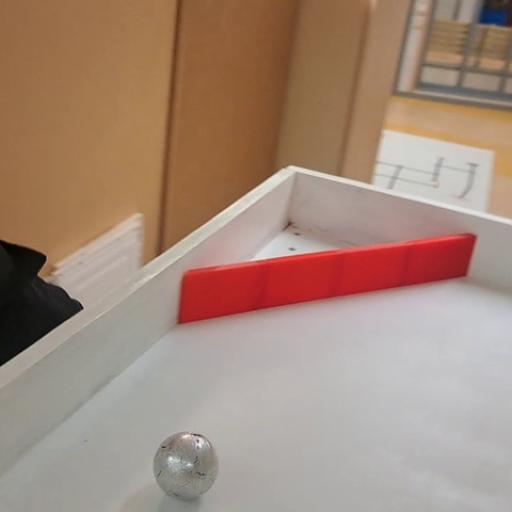alive: (152, 430, 220, 501)
